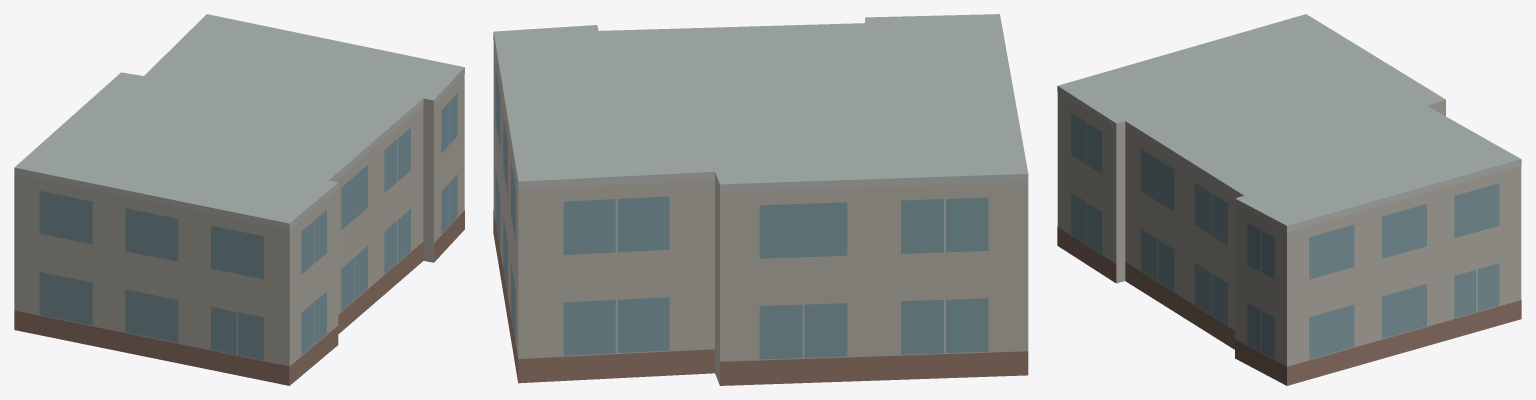
File: survey-upis-32887571.glb
3 views of the same model, side by side, from view 1: azimuth 30°, elevation 25°; view 2: azimuth 150°, elevation 25°; view 3: azimuth 270°, elevation 25° (orthographic). The views are drawn at different scales.
Visible parts, largest first — view 1: survey-upis-32887571.tmp; view 2: survey-upis-32887571.tmp; view 3: survey-upis-32887571.tmp.
Part boxes in pixels (x1,y1,x2,y2): survey-upis-32887571.tmp: (14, 14, 464, 385); survey-upis-32887571.tmp: (493, 14, 1028, 385); survey-upis-32887571.tmp: (1057, 14, 1521, 385).
Size of the model in its own units: 17.34 by 6.1 by 16.04.
